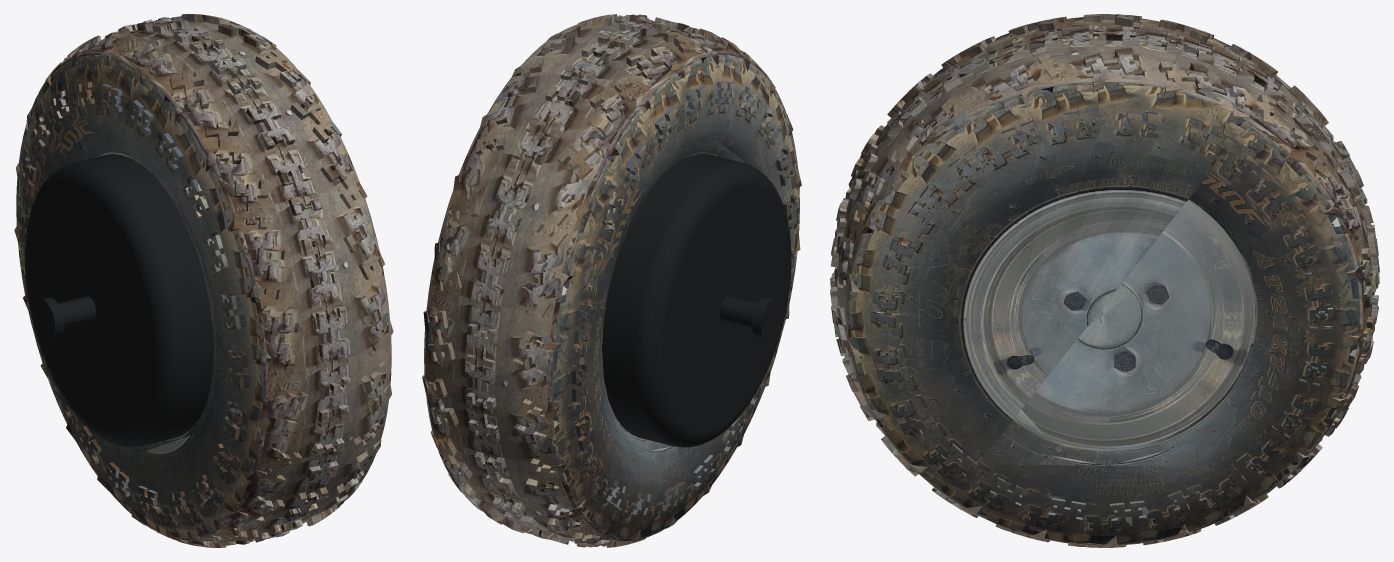
File: rueda_delante_izq.fbx
The picture shows the model from 3 angles, left to right: view 1: azimuth 30°, elevation 25°; view 2: azimuth 150°, elevation 25°; view 3: azimuth 270°, elevation 25°; orthographic projection. The views are drawn at different scales.
Visible parts, largest first — view 1: Neumático-3, unión-con-ruedas - copia (3)-2; view 2: Neumático-3, unión-con-ruedas - copia (3)-2; view 3: Neumático-3, Rueda - Llanta-3.
Part boxes in pixels (box(x1,y1,x2,y2)): Neumático-3: box(14, 14, 393, 547); unión-con-ruedas - copia (3)-2: box(25, 154, 213, 447); Neumático-3: box(422, 14, 801, 547); unión-con-ruedas - copia (3)-2: box(602, 154, 791, 447); Neumático-3: box(830, 14, 1379, 547); Rueda - Llanta-3: box(1013, 200, 1254, 448).
Bounding box in the file's own units: 26.07 × 51.13 × 51.21.
